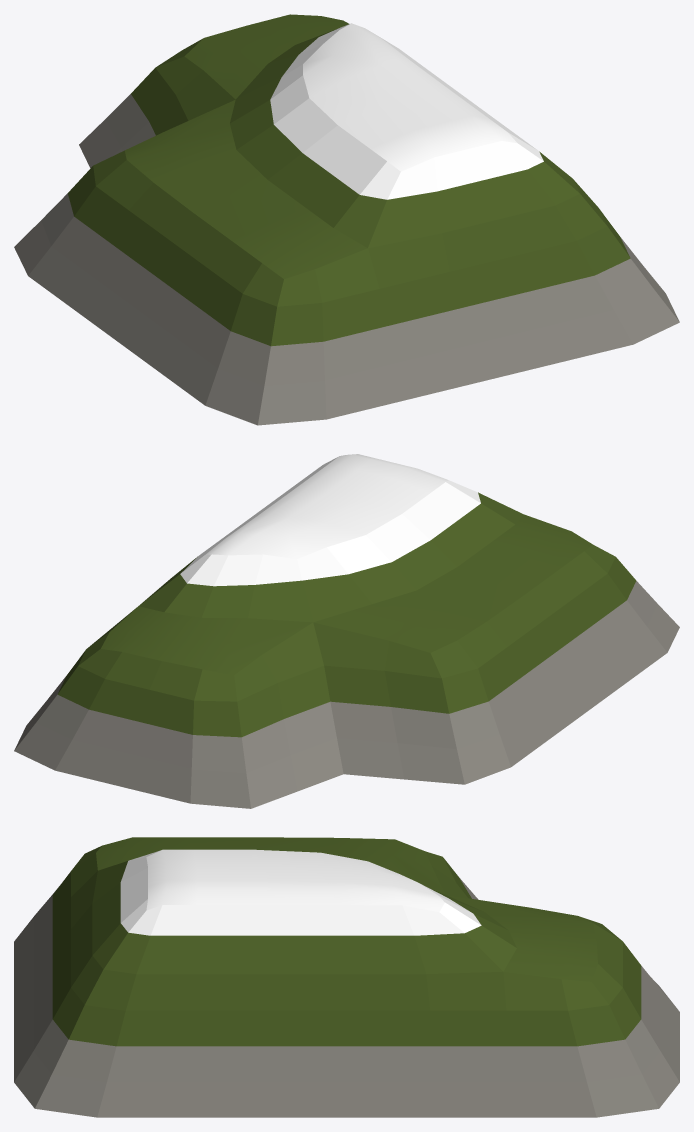
The model's file is Island13.FBX.
3 renders of one model, top to bottom at view 1: azimuth 30°, elevation 25°; view 2: azimuth 150°, elevation 25°; view 3: azimuth 270°, elevation 25°, orthographic. The views are drawn at different scales.
Visible parts, largest first — view 1: Plane001; view 2: Plane001; view 3: Plane001.
Part boxes in pixels (box(x1,y1,x2,y2)): Plane001: box(14, 14, 679, 425); Plane001: box(14, 454, 679, 808); Plane001: box(14, 837, 679, 1117).
Size of the model in its own units: 30 by 10.77 by 40.
